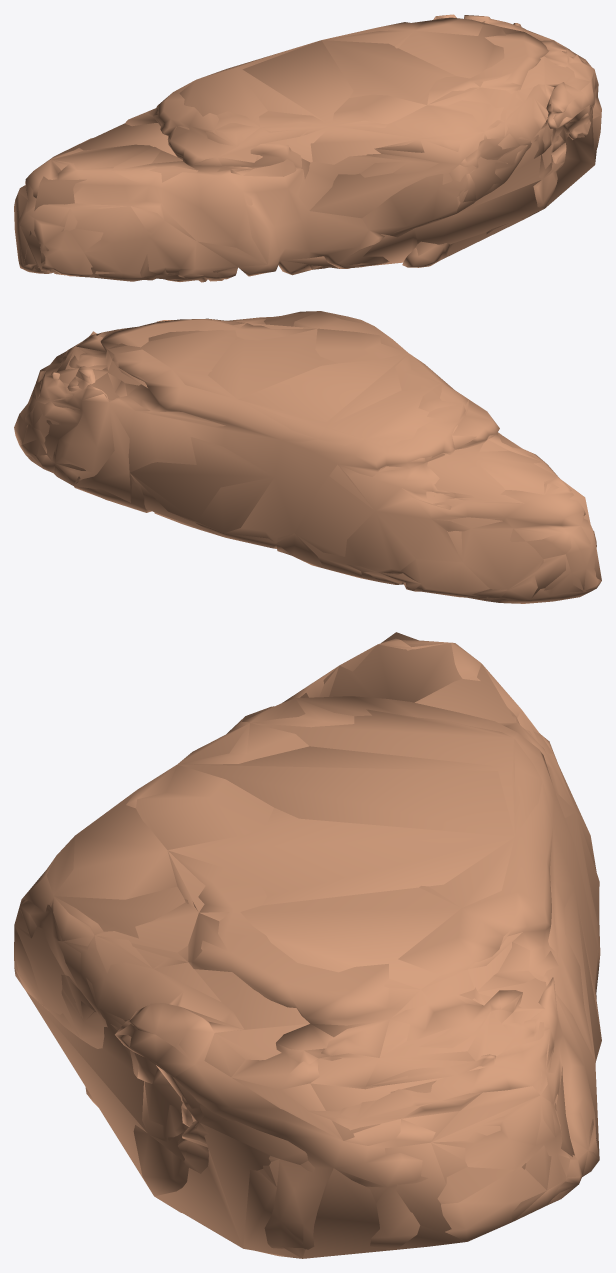
The model's file is MSH_Rocks_Boulder_34.FBX.
3 renders of one model, top to bottom at view 1: azimuth 30°, elevation 25°; view 2: azimuth 150°, elevation 25°; view 3: azimuth 270°, elevation 25°, orthographic. The views are drawn at different scales.
Parts seen in each view (by area): view 1: MESH_LOD0x, MESH_LOD3x, MESH_LOD2x, MESH_LOD1x, MESH_LOD4x, MESH_LOD5x; view 2: MESH_LOD0x, MESH_LOD1x, MESH_LOD2x, MESH_LOD3x, MESH_LOD4x, MESH_LOD5x; view 3: MESH_LOD0x, MESH_LOD3x, MESH_LOD2x, MESH_LOD4x, MESH_LOD1x, MESH_LOD5x.
Part boxes in pixels (x1,y1,x2,y2): MESH_LOD0x: (14,14,601,282); MESH_LOD3x: (20,18,595,279); MESH_LOD2x: (15,16,600,280); MESH_LOD1x: (14,14,600,281); MESH_LOD4x: (40,27,586,268); MESH_LOD5x: (24,56,594,277); MESH_LOD0x: (14,311,601,603); MESH_LOD1x: (19,311,601,603); MESH_LOD2x: (19,318,601,598); MESH_LOD3x: (19,311,565,598); MESH_LOD4x: (26,311,542,463); MESH_LOD5x: (44,360,590,524); MESH_LOD0x: (14,638,601,1258); MESH_LOD3x: (21,642,599,1258); MESH_LOD2x: (14,644,598,1258); MESH_LOD4x: (27,665,574,1240); MESH_LOD1x: (14,644,601,1258); MESH_LOD5x: (26,632,546,1248).
Bounding box in the file's own units: 273 × 67.64 × 131.
